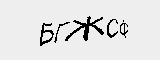Б: (36, 19, 54, 47)
Г: (53, 18, 69, 46)
Ж: (66, 12, 106, 45)
С: (105, 16, 118, 42)
Ф: (117, 18, 129, 41)
